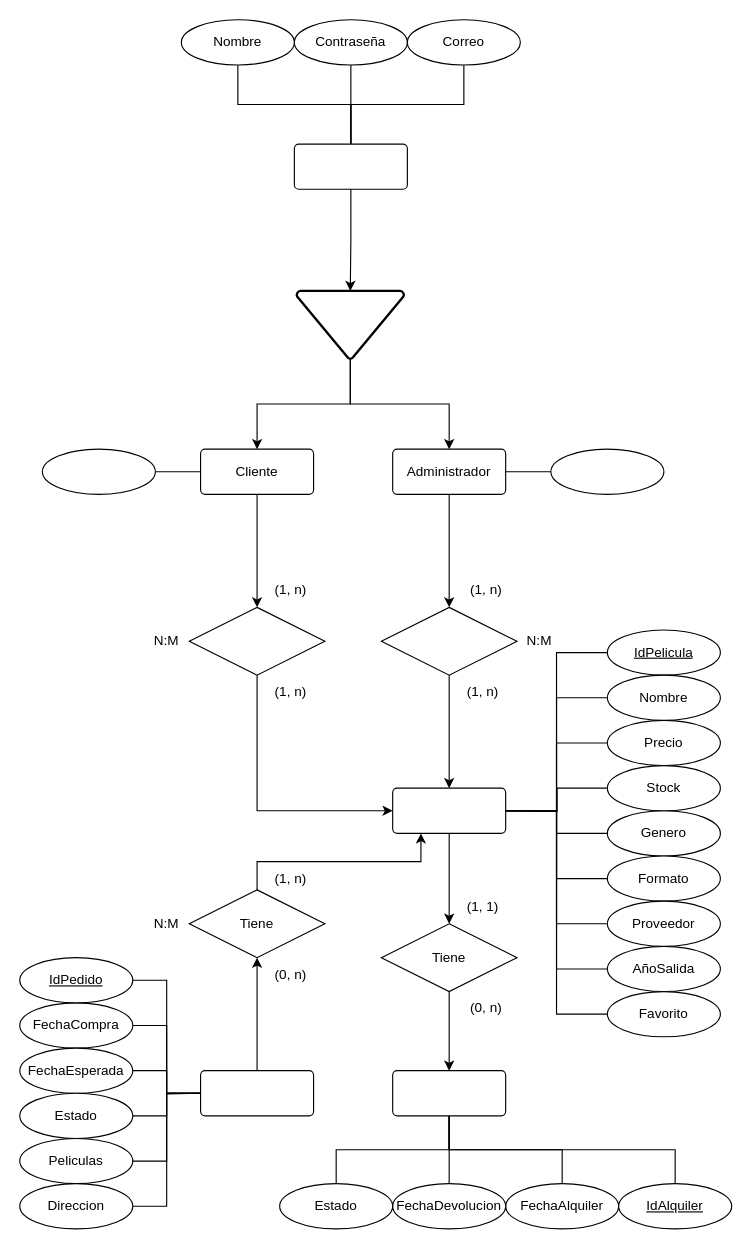
Image size: 751x1249. Some labels were removed from this diagram. Here are the shapes that lost their labels. From the top down, the box of each, then its label:
(293, 143, 407, 189): Usuario
(41, 448, 155, 494): IdCliente
(550, 448, 664, 494): IdAdministrador
(188, 606, 325, 675): Compra
(380, 606, 517, 675): Modifica
(392, 787, 506, 833): Pelicula
(199, 1070, 314, 1116): Pedido
(392, 1070, 506, 1116): Alquiler
